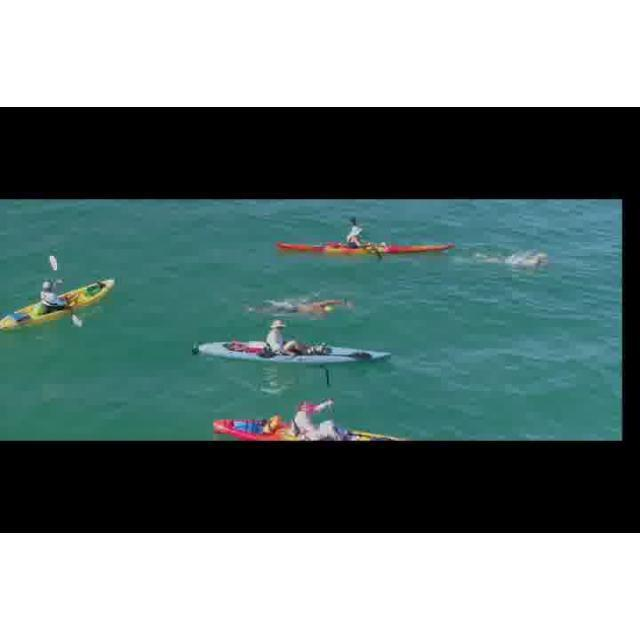human: (256, 298, 354, 322)
